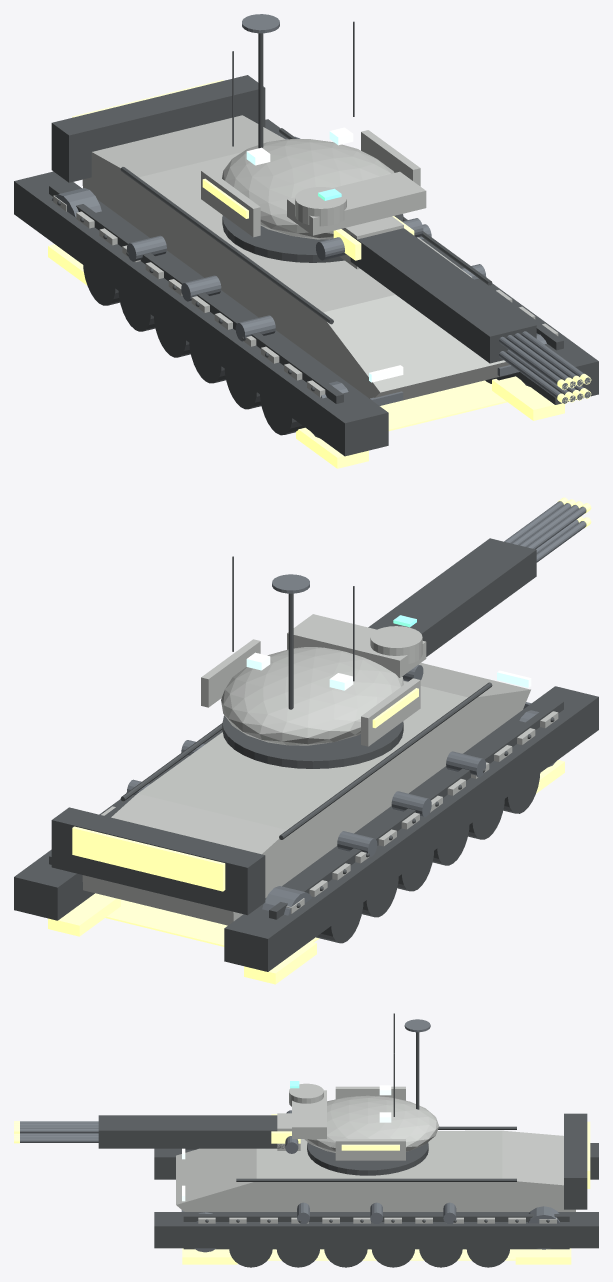
The model's file is plasma_tank.glb.
The picture shows the model from 3 angles, top to bottom: view 1: azimuth 30°, elevation 25°; view 2: azimuth 150°, elevation 25°; view 3: azimuth 270°, elevation 25°; orthographic projection. The views are drawn at different scales.
Visible parts, largest first — view 1: plasma_tank_hull, plasma_tank_track-1, barrel_housing, plasma_tank_engrear, launcher_yaw_shell, launcher_yaw_wedge, plasma_tank_underglow, plasma_tank_skirt-1, launcher_yaw_ring, plasma_tank_track1, launcher_yaw_cheek-1, plasma_tank_shoe1_1 (+23 smaller); view 2: plasma_tank_hull, plasma_tank_track-1, launcher_yaw_shell, plasma_tank_engrear, barrel_housing, plasma_tank_exhaust, launcher_yaw_ring, plasma_tank_track1, launcher_yaw_wedge, plasma_tank_skirt-1, plasma_tank_underglow, launcher_yaw_cheek-1 (+17 smaller); view 3: plasma_tank_hull, plasma_tank_track1, barrel_housing, launcher_yaw_shell, plasma_tank_engrear, plasma_tank_skirt1, launcher_yaw_ring, launcher_yaw_wedge, launcher_yaw_cheek1, plasma_tank_loom1, plasma_tank_track-1, plasma_tank_shoe1_0 (+15 smaller).
Boxes of the visible parts, <box> form: plasma_tank_hull: <box>82,115,509,400</box>; plasma_tank_track-1: <box>14,171,388,456</box>; barrel_housing: <box>350,228,536,363</box>; plasma_tank_engrear: <box>51,75,265,182</box>; launcher_yaw_shell: <box>222,139,396,239</box>; launcher_yaw_wedge: <box>287,171,426,235</box>; plasma_tank_underglow: <box>380,380,507,431</box>; plasma_tank_skirt-1: <box>49,184,343,403</box>; launcher_yaw_ring: <box>222,214,403,262</box>; plasma_tank_track1: <box>265,119,598,404</box>; launcher_yaw_cheek-1: <box>201,169,260,237</box>; plasma_tank_shoe1_1: <box>492,376,564,420</box>; plasma_tank_hull: <box>82,663,530,925</box>; plasma_tank_track-1: <box>224,686,598,971</box>; launcher_yaw_shell: <box>221,647,403,745</box>; plasma_tank_engrear: <box>51,807,265,915</box>; barrel_housing: <box>368,538,536,656</box>; plasma_tank_exhaust: <box>72,826,225,891</box>; launcher_yaw_ring: <box>222,715,403,768</box>; plasma_tank_track1: <box>14,799,122,920</box>; launcher_yaw_wedge: <box>287,614,426,677</box>; plasma_tank_skirt-1: <box>269,700,563,919</box>; plasma_tank_underglow: <box>105,899,319,946</box>; launcher_yaw_cheek-1: <box>361,678,420,746</box>; plasma_tank_hull: <box>176,1130,575,1211</box>; plasma_tank_track1: <box>154,1212,598,1248</box>; barrel_housing: <box>98,1115,285,1148</box>; launcher_yaw_shell: <box>304,1095,439,1152</box>; plasma_tank_engrear: <box>564,1113,587,1209</box>; plasma_tank_skirt1: <box>183,1214,569,1249</box>; launcher_yaw_ring: <box>307,1142,428,1175</box>; launcher_yaw_wedge: <box>292,1090,326,1138</box>; launcher_yaw_cheek1: <box>335,1139,405,1160</box>; plasma_tank_loom1: <box>236,1178,516,1181</box>; plasma_tank_track-1: <box>154,1143,598,1179</box>; plasma_tank_shoe1_0: <box>515,1248,571,1264</box>.
Bounding box in the file's own units: 3.37 × 3.75 × 10.
